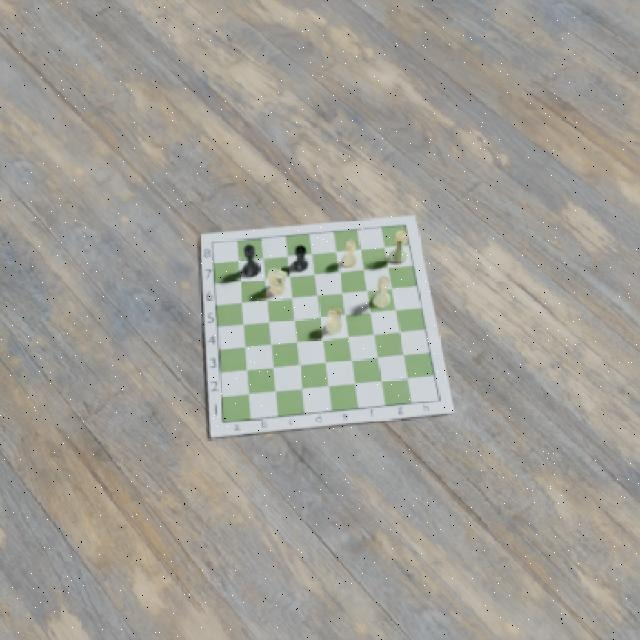black-king: (240, 243, 260, 278)
black-rook: (293, 244, 309, 271)
white-bishop: (341, 239, 358, 269)
white-king: (373, 275, 390, 309)
white-knight: (267, 266, 287, 297)
white-queen: (391, 228, 408, 263)
white-rook: (325, 307, 343, 336)
